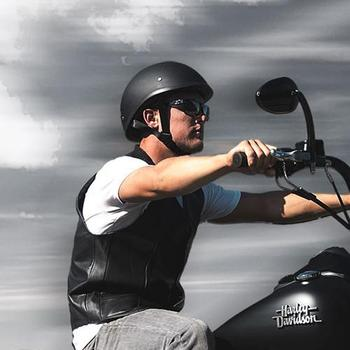with_helmet: (116, 58, 215, 157)
